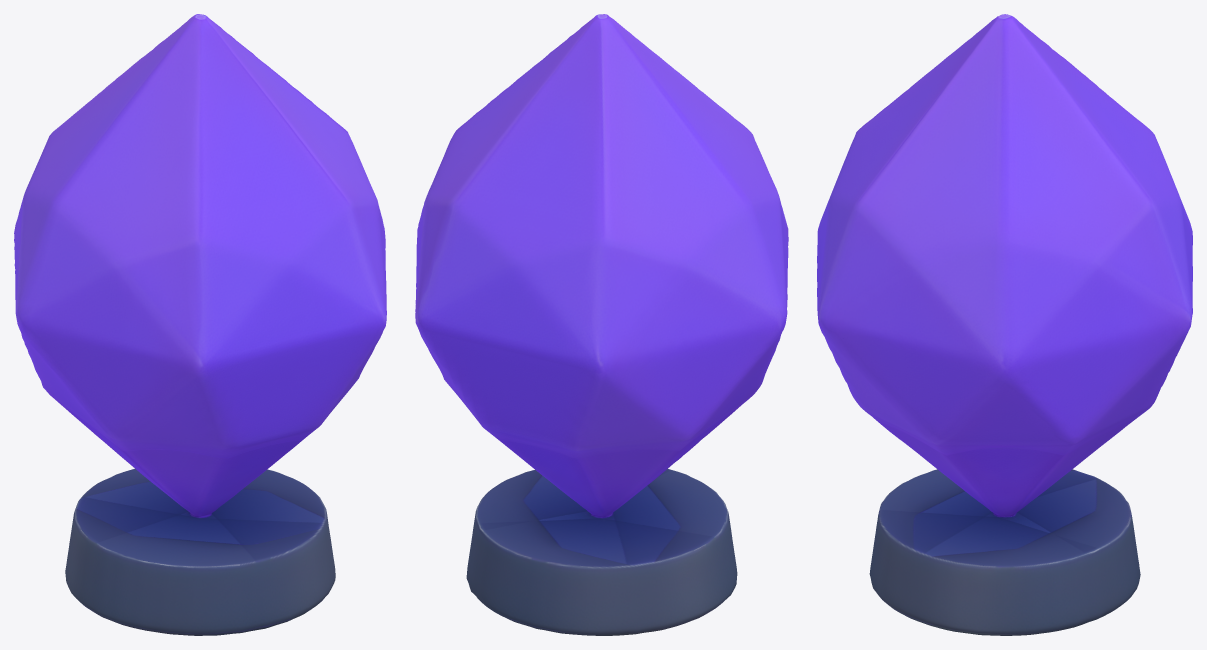
File: polygon.glb
The picture shows the model from 3 angles, left to right: view 1: azimuth 30°, elevation 25°; view 2: azimuth 150°, elevation 25°; view 3: azimuth 270°, elevation 25°; orthographic projection.
Visible parts, largest first — view 1: model; view 2: model; view 3: model.
Boxes of the visible parts, bbox=[...] form: model: bbox=[14, 14, 386, 635]; model: bbox=[415, 14, 788, 635]; model: bbox=[817, 14, 1192, 635].
Bounding box in the file's own units: 1.29 × 1.9 × 1.14.
1 material, 1 textured.
